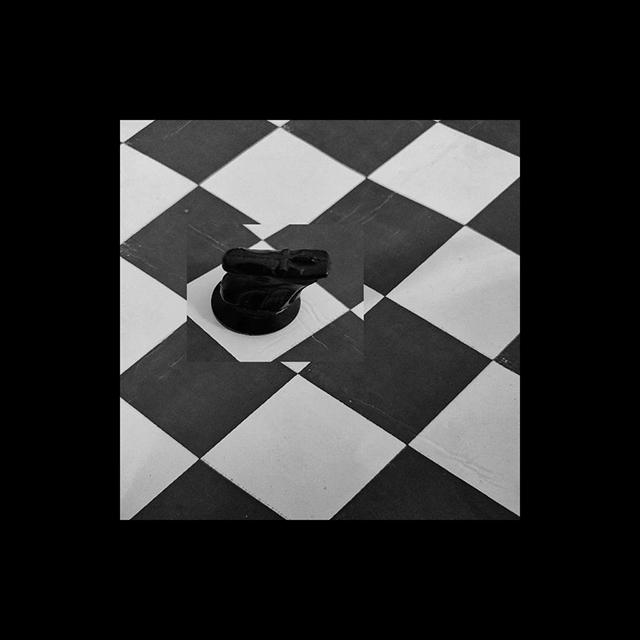black-knight: (206, 239, 334, 335)
